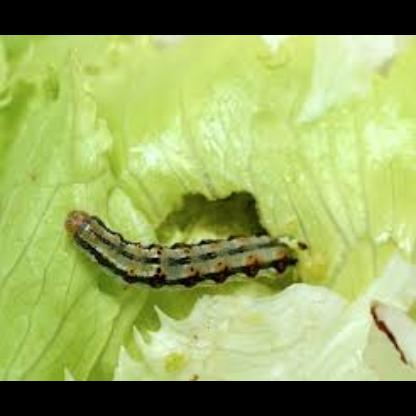oruga: (56, 203, 316, 284)
